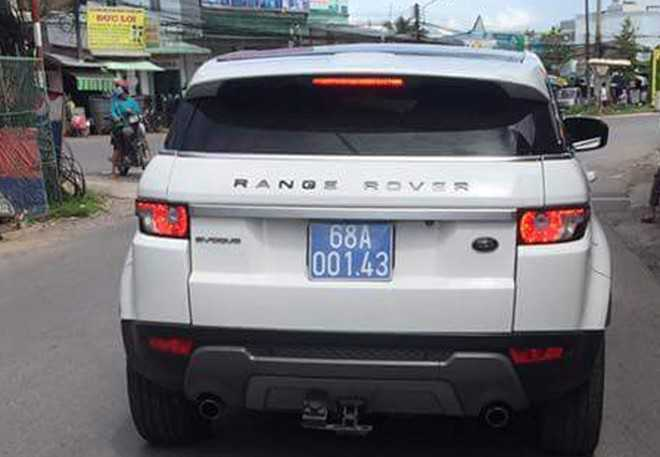plate: (306, 217, 393, 282)
